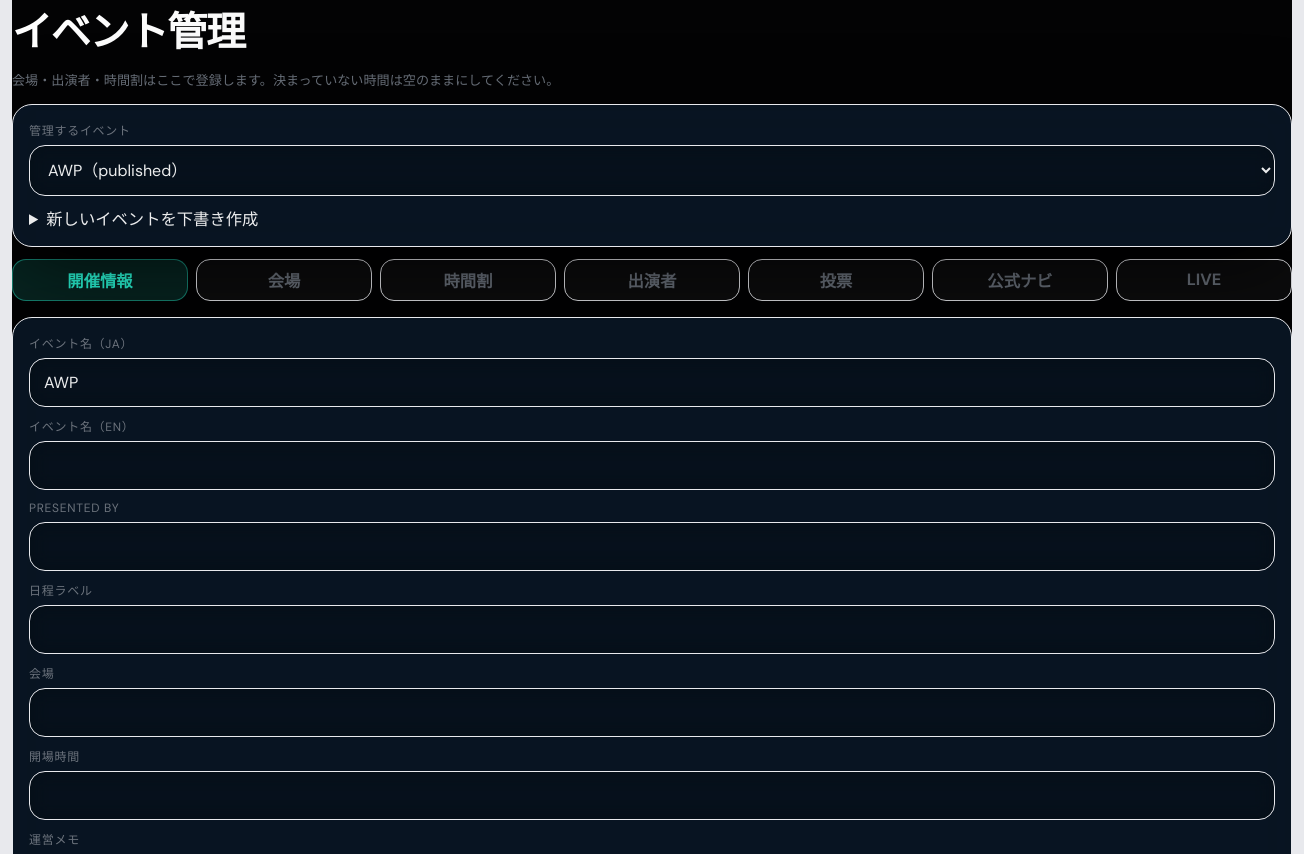
separates legacy edits from the official device limit
This screenshot has width=1304, height=854.
Click the button "投票" at (836, 280), box [748, 259, 924, 301]
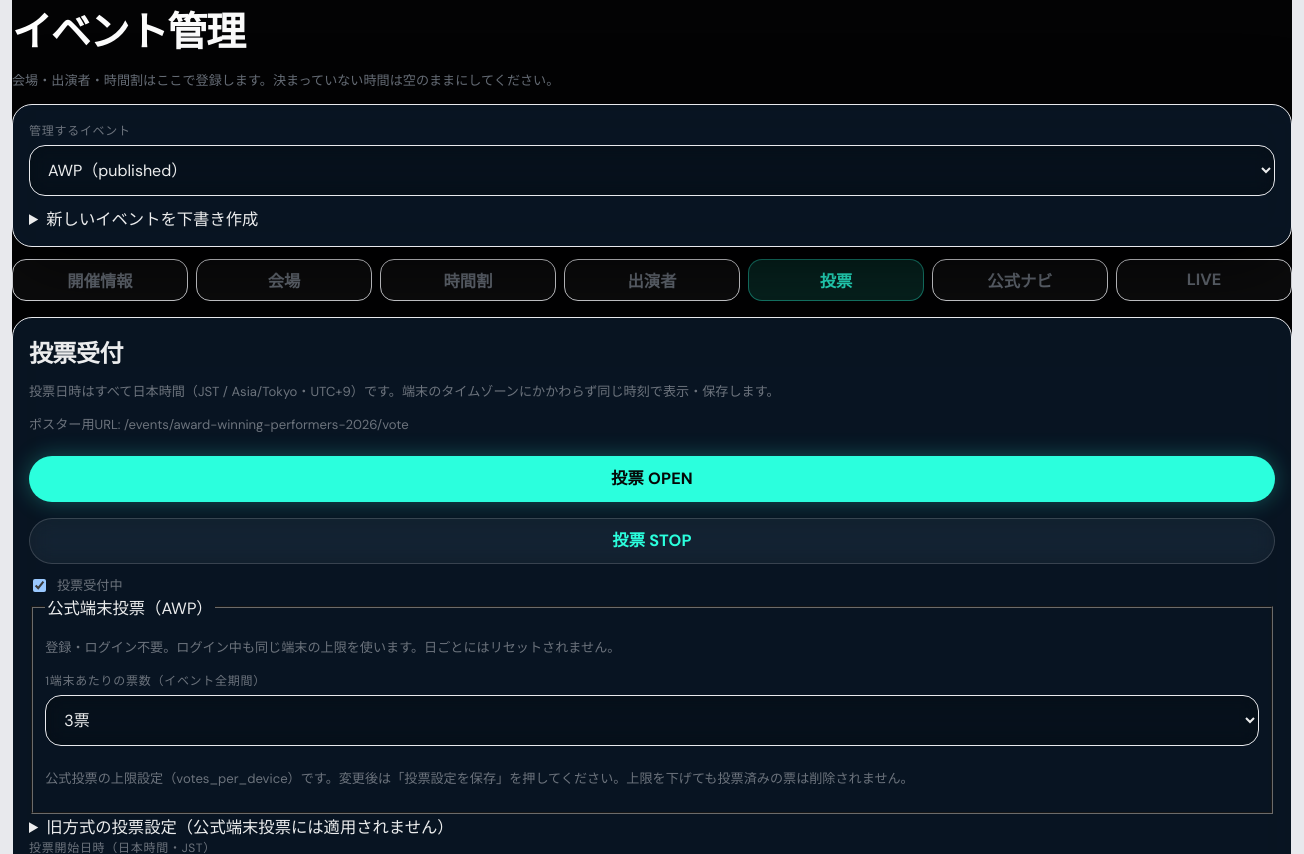
Expected: the text "公式端末投票（AWP）" is shown, [45, 595, 215, 619]
Click the heading "旧方式の投票設定（公式端末投票には適用されません）" at (250, 828), box [46, 817, 454, 838]
(page scrolled)
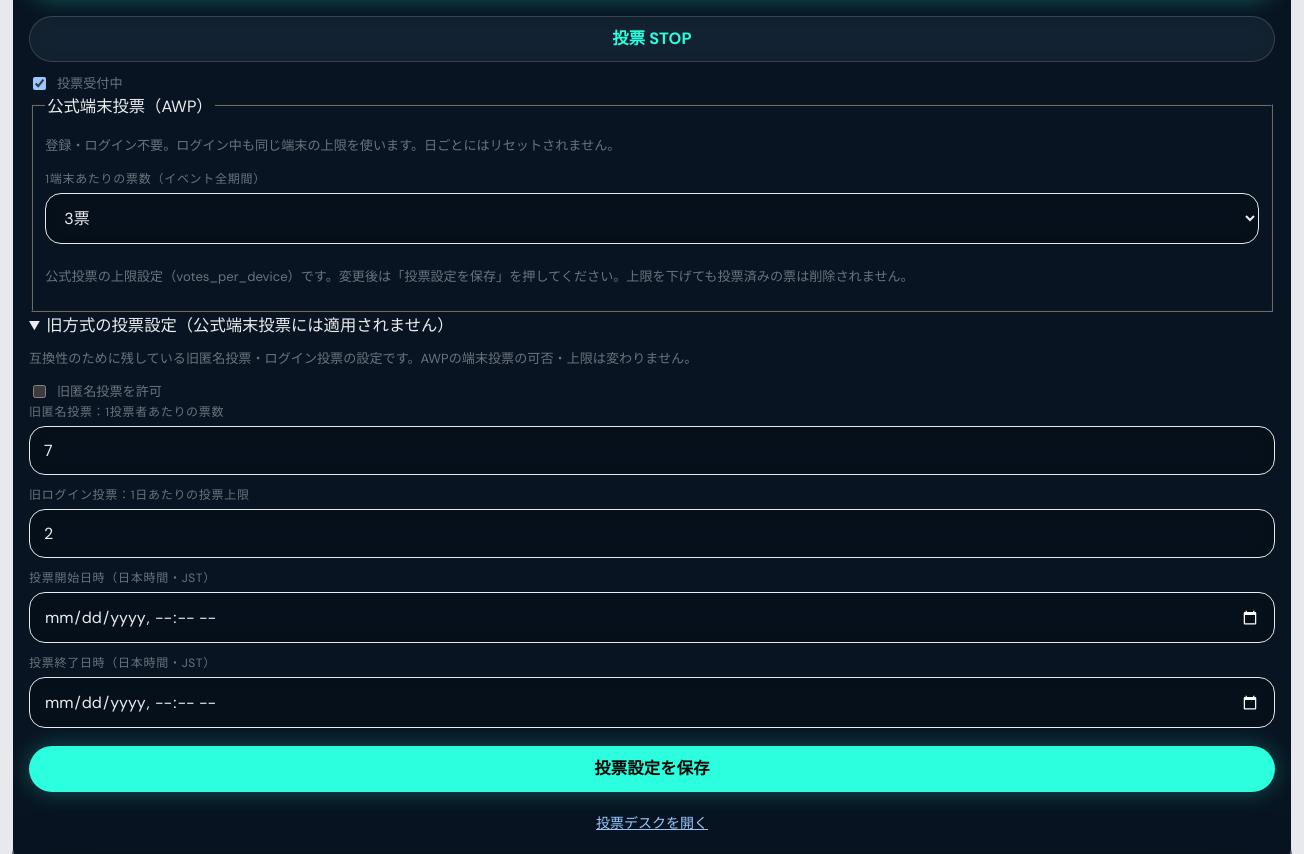
Replace the text in the number field labelled "旧匿名投票：1投票者あたりの票数" with "9" at (652, 450), box [29, 426, 1275, 475]
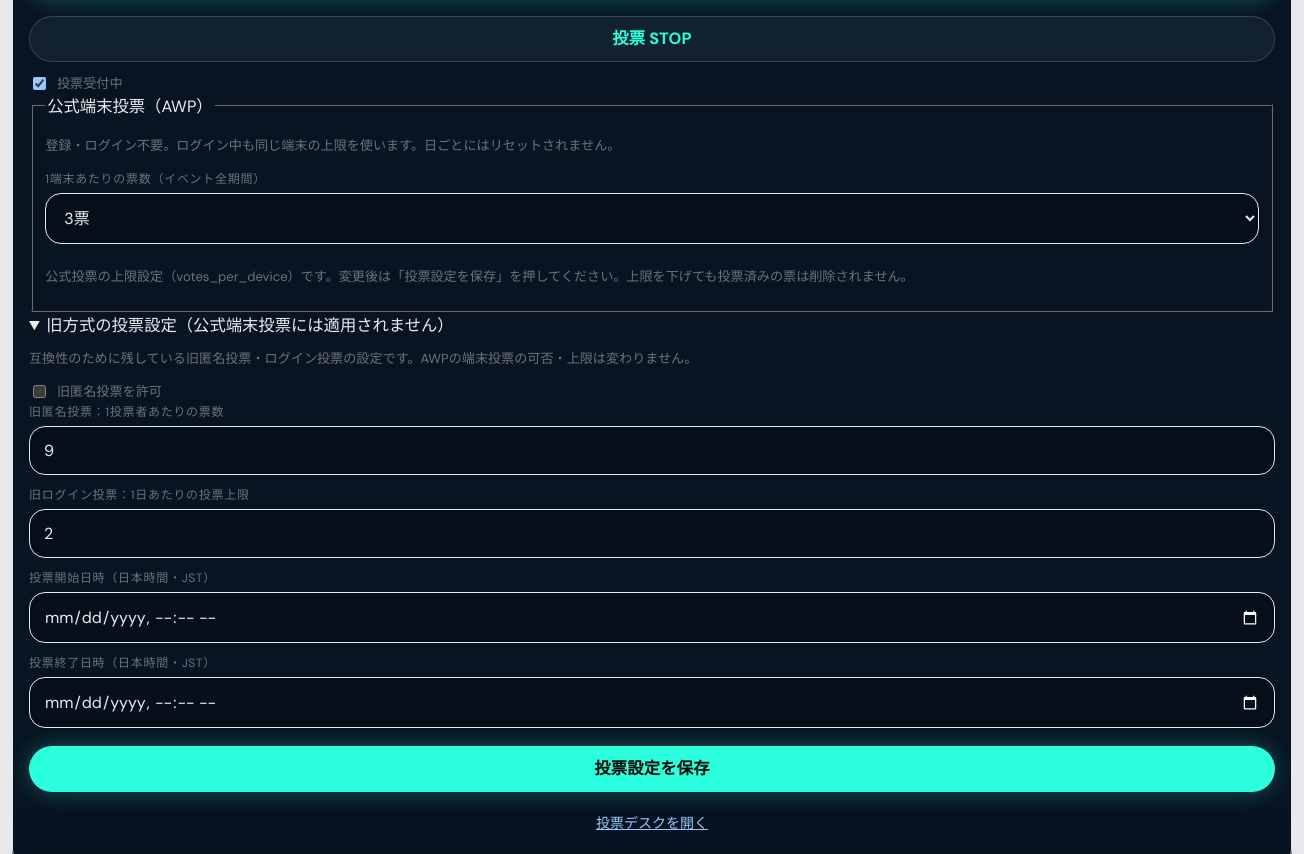
Click the checkbox labelled "旧匿名投票を許可" at (40, 392), box [33, 385, 46, 398]
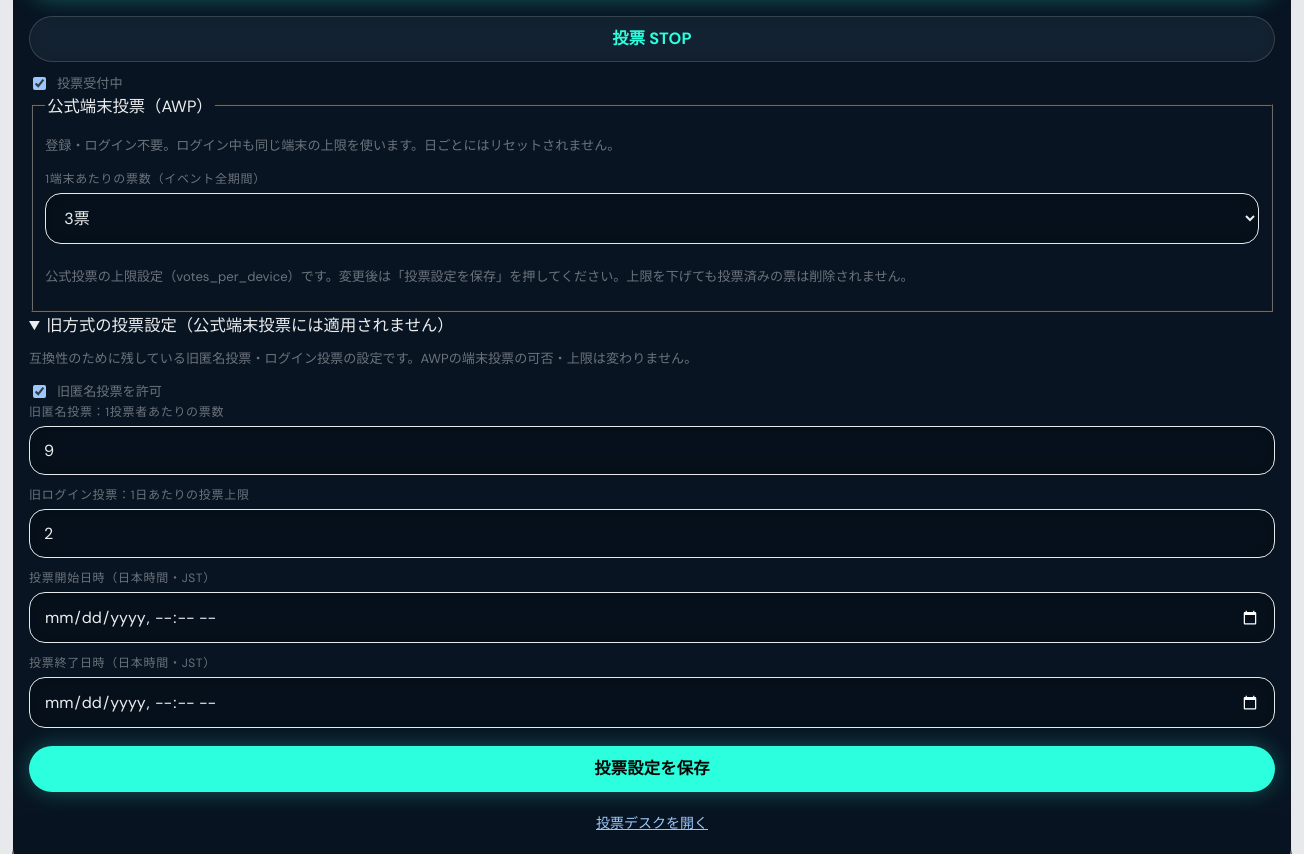
Click the button "投票設定を保存" at (652, 769), box [29, 746, 1275, 792]
(page scrolled)
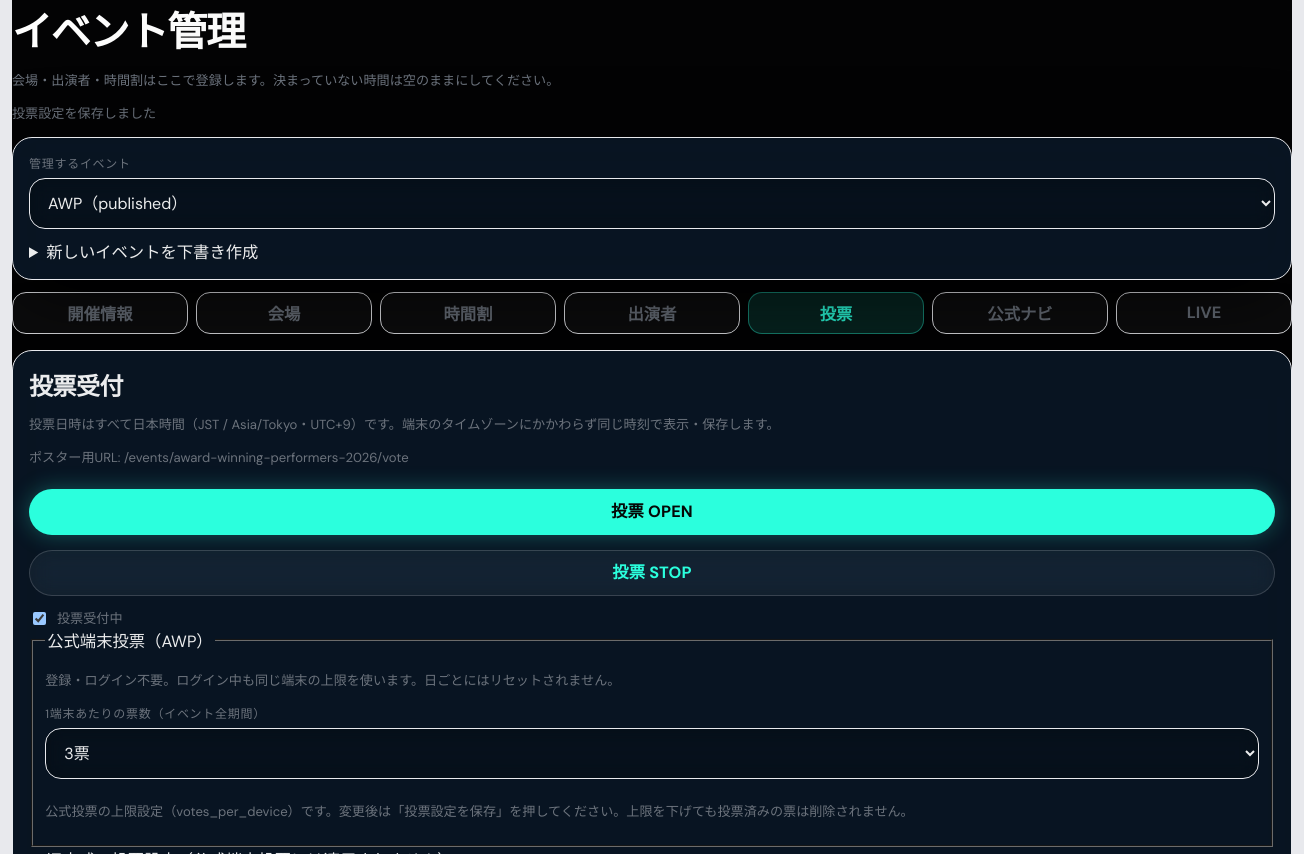
Expected: the text "投票設定を保存しました" is shown, [12, 105, 156, 122]
